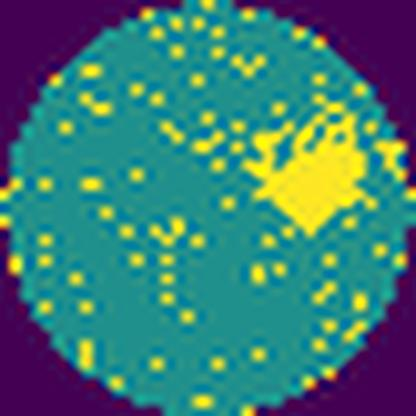Loc: (244, 98, 368, 236)
